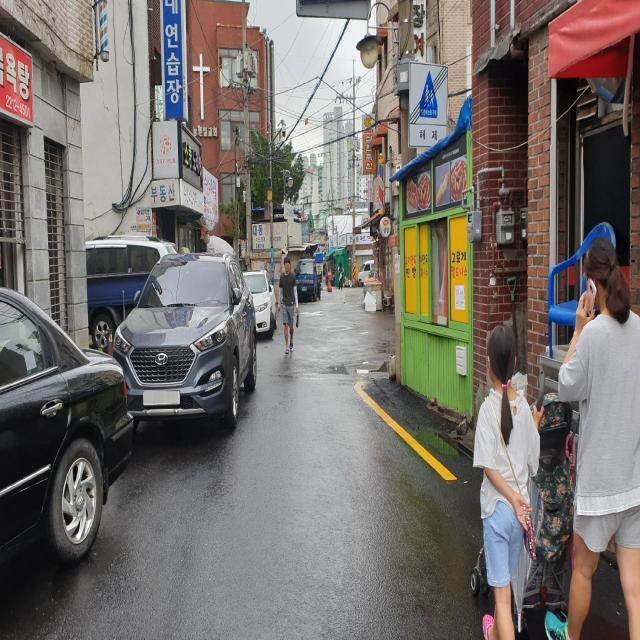car ahead at: (109, 242, 262, 440)
person ahead at: (272, 246, 304, 361)
